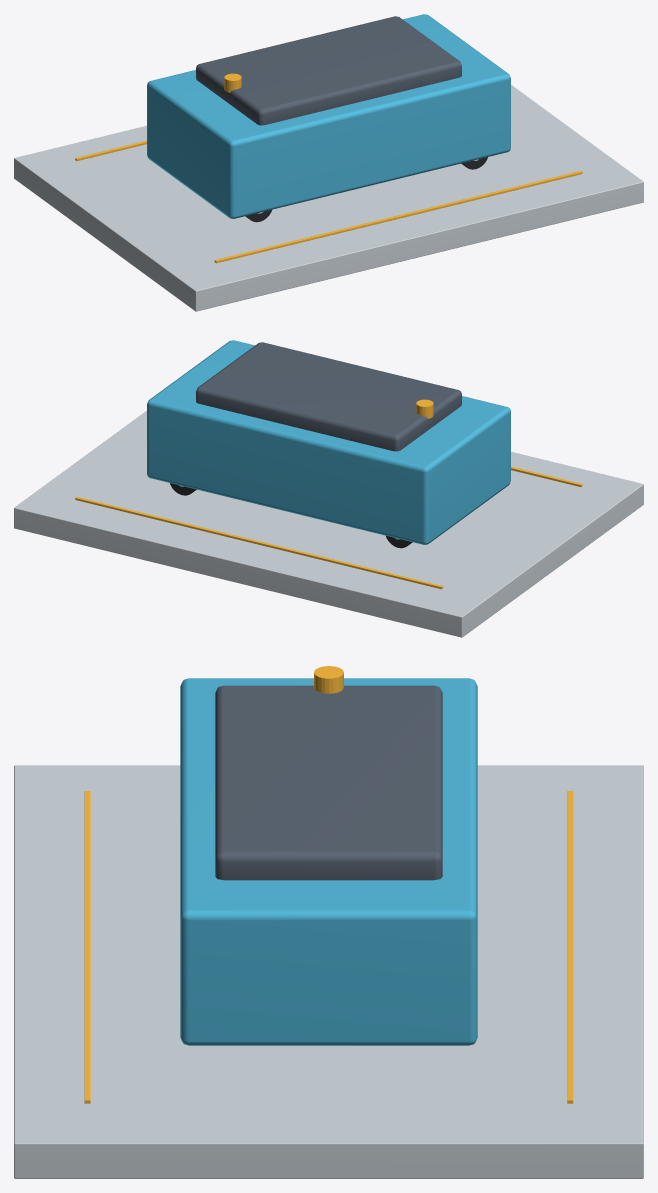
3 views of the same model, one above another, from view 1: azimuth 30°, elevation 25°; view 2: azimuth 150°, elevation 25°; view 3: azimuth 270°, elevation 25° (orthographic). The views are drawn at different scales.
Visible parts, largest first — view 1: Ground plane, Autonomous platform, Top load interface, Concept clearance guide; view 2: Ground plane, Autonomous platform, Top load interface, Concept clearance guide.001; view 3: Ground plane, Autonomous platform, Top load interface, Concept clearance guide, Concept clearance guide.001, E-stop button.
Part boxes in pixels (bbox=[...]): Ground plane: bbox=[14, 85, 643, 311]; Autonomous platform: bbox=[147, 14, 510, 218]; Top load interface: bbox=[196, 16, 461, 125]; Concept clearance guide: bbox=[214, 171, 582, 263]; Ground plane: bbox=[14, 411, 643, 637]; Autonomous platform: bbox=[147, 340, 510, 544]; Top load interface: bbox=[196, 342, 461, 451]; Concept clearance guide.001: bbox=[75, 497, 443, 589]; Ground plane: bbox=[14, 765, 643, 1178]; Autonomous platform: bbox=[180, 678, 477, 1045]; Top load interface: bbox=[215, 685, 442, 880]; Concept clearance guide: bbox=[84, 791, 90, 1103]; Concept clearance guide.001: bbox=[567, 791, 573, 1103]; E-stop button: bbox=[314, 666, 343, 693].
Bounding box in the file's own units: 2.69 × 0.785 × 1.89.
